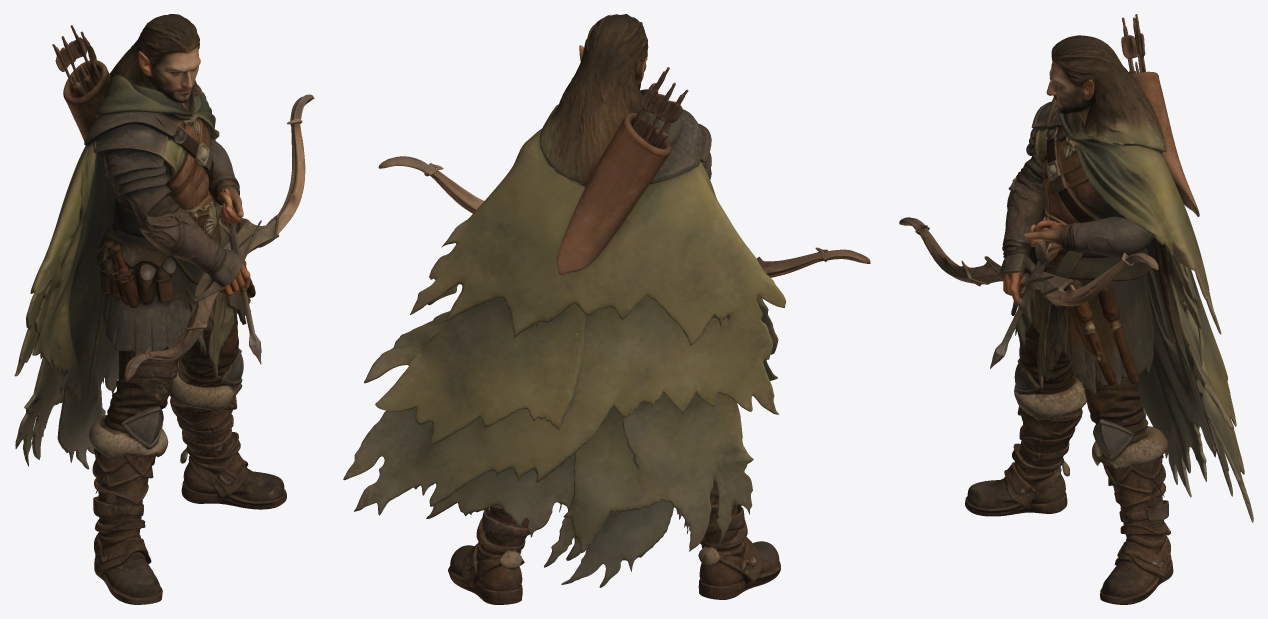
Rendered from half_elf_ranger_full_male_01.glb.
The picture shows the model from 3 angles, left to right: view 1: azimuth 30°, elevation 25°; view 2: azimuth 150°, elevation 25°; view 3: azimuth 270°, elevation 25°; orthographic projection. The views are drawn at different scales.
Visible parts, largest first — view 1: material; view 2: material; view 3: material.
Boxes of the visible parts, x1,y1,x2,y2 form: material: (14,14,314,604); material: (343,14,870,604); material: (899,14,1253,604).
Size of the model in its own units: 0.7019 by 1.06 by 0.6683.
Materials: 1 (1 with a texture image).
